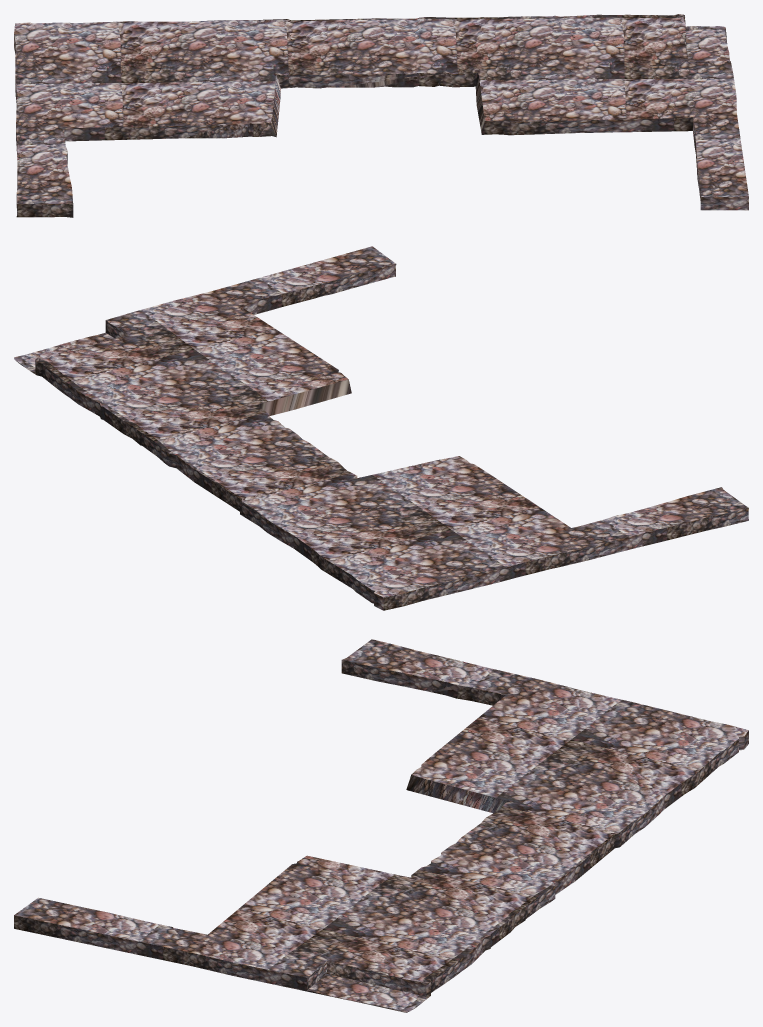
The picture shows the model from 3 angles, top to bottom: view 1: azimuth 30°, elevation 25°; view 2: azimuth 150°, elevation 25°; view 3: azimuth 270°, elevation 25°; orthographic projection. The views are drawn at different scales.
Visible parts, largest first — view 1: Q2; view 2: Q2; view 3: Q2.
Part boxes in pixels (x1=…): Q2: x1=14, y1=14, x2=748, y2=217; Q2: x1=14, y1=246, x2=748, y2=610; Q2: x1=14, y1=639, x2=748, y2=1012.
Bounding box in the file's own units: 1718 × 30 × 1480.
Materials: 1 (1 with a texture image).
